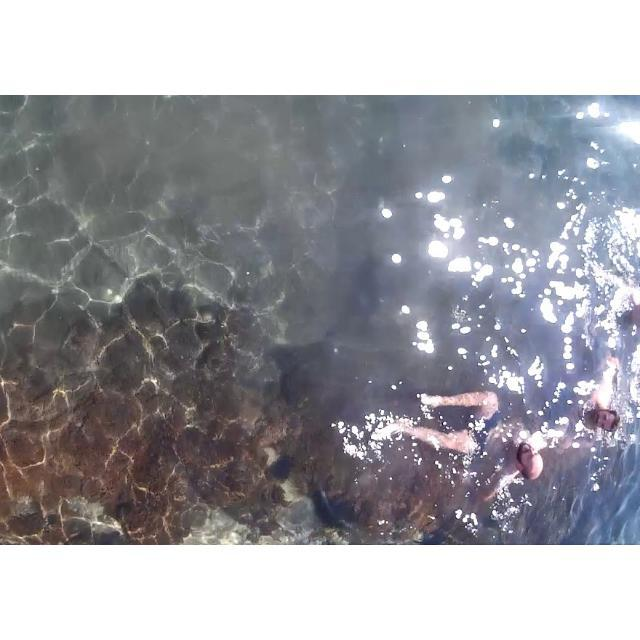human: (395, 367, 546, 519), (573, 308, 638, 468)
